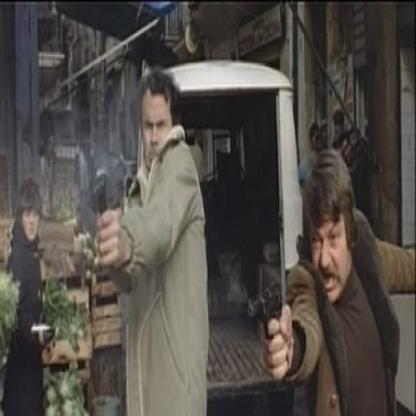gun: (243, 268, 286, 362), (81, 170, 116, 229)
